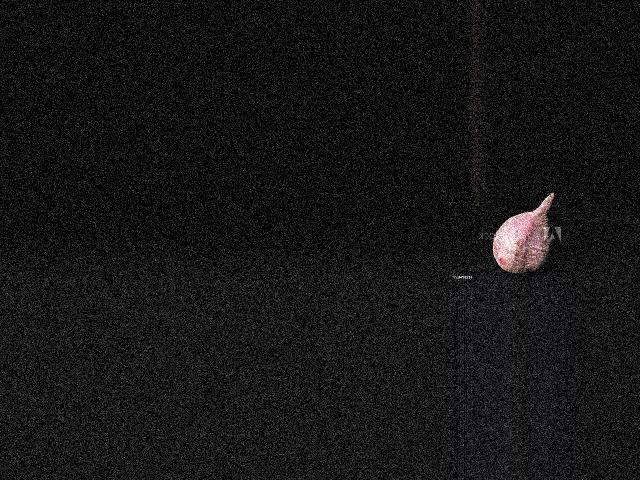beet: (492, 193, 553, 273)
